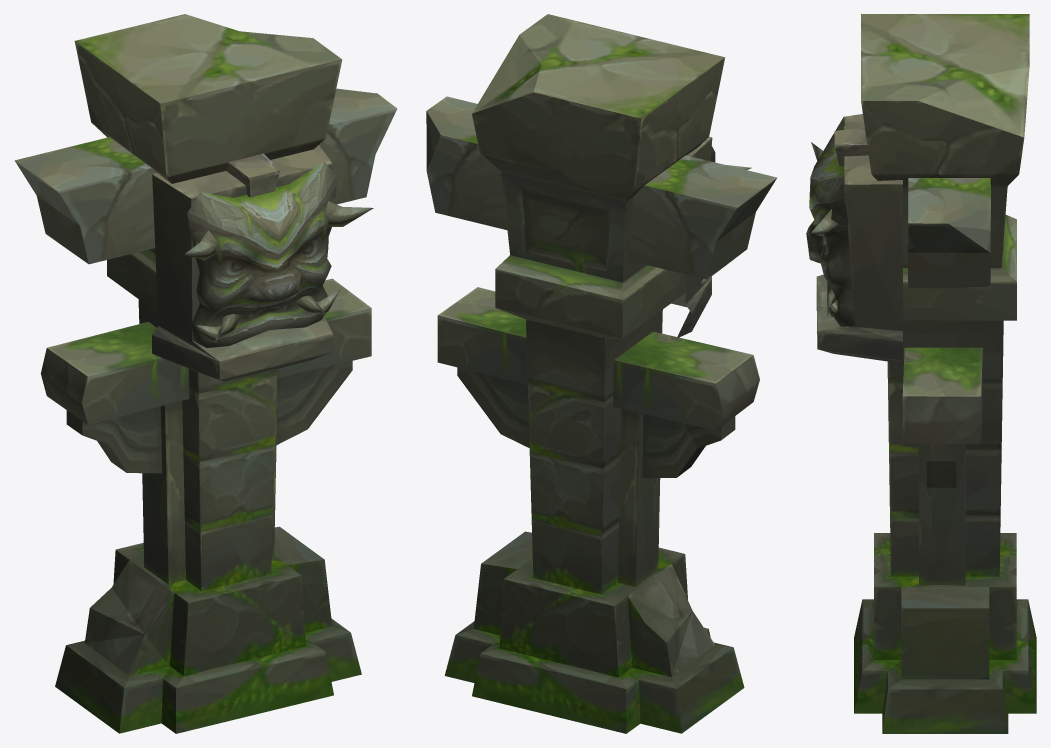
The model's file is fb_lyhg_tt_01.FBX.
3 views of the same model, side by side, from view 1: azimuth 30°, elevation 25°; view 2: azimuth 150°, elevation 25°; view 3: azimuth 270°, elevation 25° (orthographic). The views are drawn at different scales.
Parts seen in each view (by area): view 1: fb_lyhg_tt_01; view 2: fb_lyhg_tt_01; view 3: fb_lyhg_tt_01.
Part boxes in pixels (x1,y1,x2,y2): fb_lyhg_tt_01: [14, 14, 397, 733]; fb_lyhg_tt_01: [426, 14, 777, 733]; fb_lyhg_tt_01: [806, 14, 1036, 733].
Bounding box in the file's own units: 685 × 1211 × 409.
